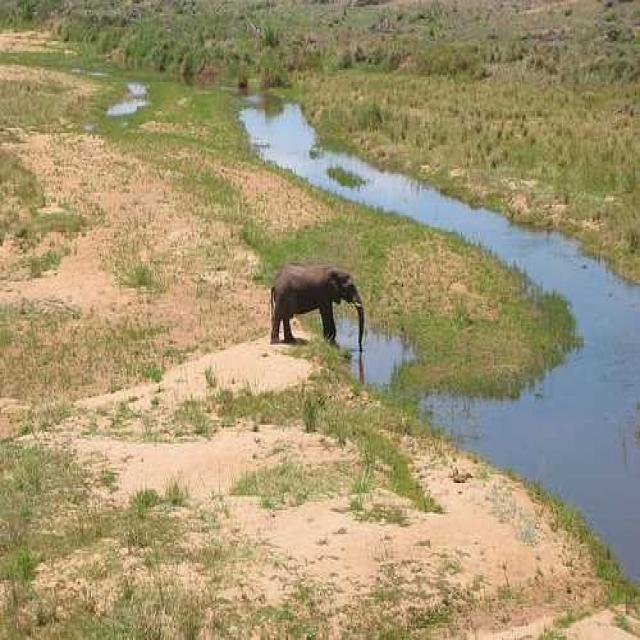Elephant: (269, 260, 365, 352)
